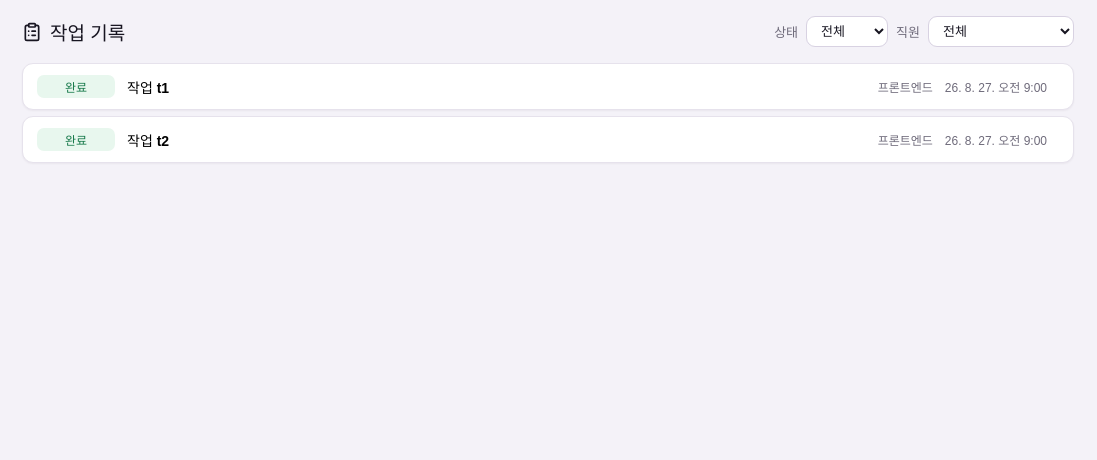
Test: 항목을 선택하면 상세를 불러오고 다시 열 때는 캐시를 쓴다
The width and height of the screenshot is (1097, 460).
Click the button "작업 t1".
click(76, 86)  # box [22,63,1074,110]
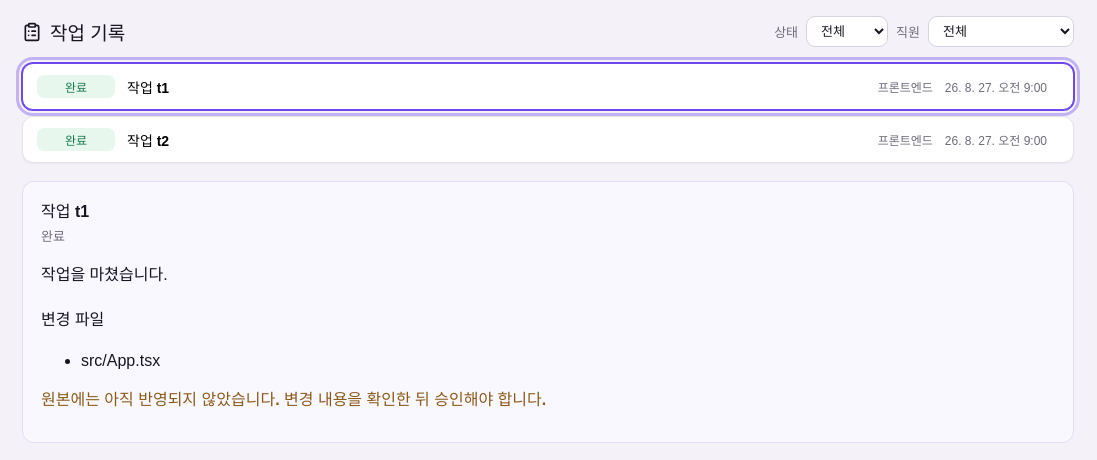
Expected: the text "작업을 마쳤습니다." is shown, [41,266,168,283]
Expected: the list item "src/App.tsx" is shown, [81,352,160,368]
Click the button "작업 t1".
click(76, 86)  # box [22,63,1074,110]
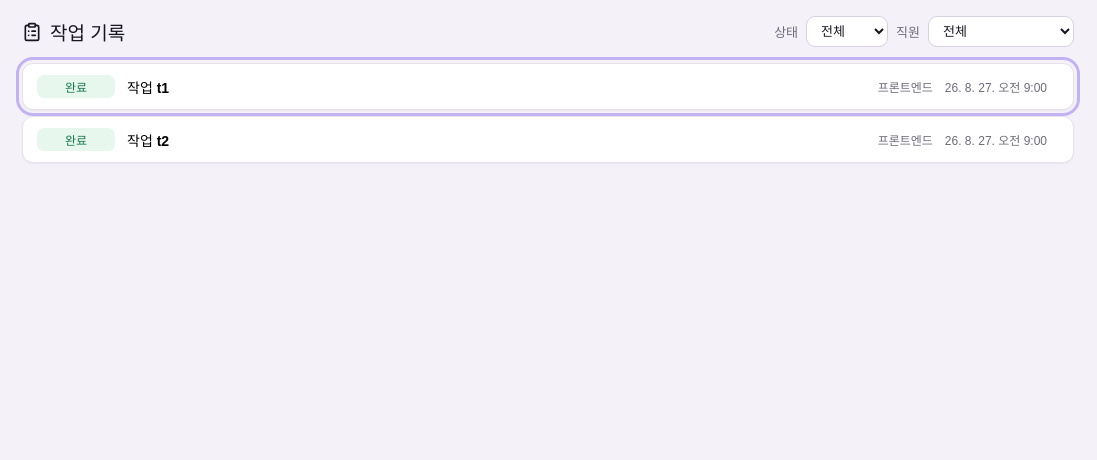
Click the button "작업 t1".
click(76, 86)  # box [22,63,1074,110]
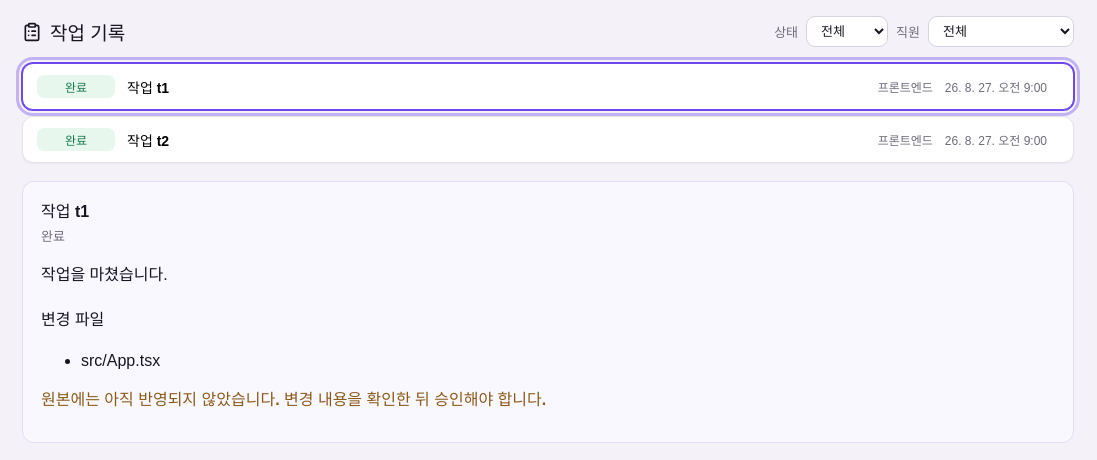
Expected: the text "작업을 마쳤습니다." is shown, [41,266,168,283]
